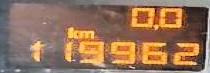-: (151, 24, 158, 29)
0: (129, 6, 154, 26), (158, 7, 182, 27)
1: (61, 40, 72, 62), (31, 40, 41, 61)
2: (170, 41, 199, 64)
6: (140, 41, 166, 64)
9: (77, 39, 104, 62), (108, 41, 135, 63)
X: (65, 26, 78, 37), (77, 29, 94, 37)
